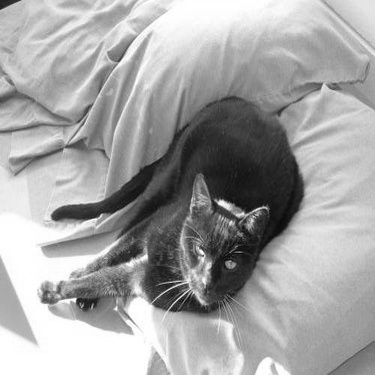cat: (18, 98, 315, 298)
